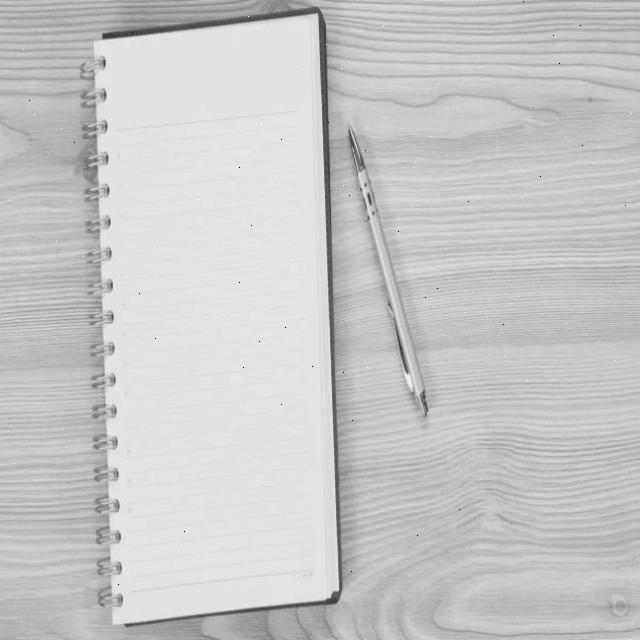pencil: (341, 124, 450, 421)
